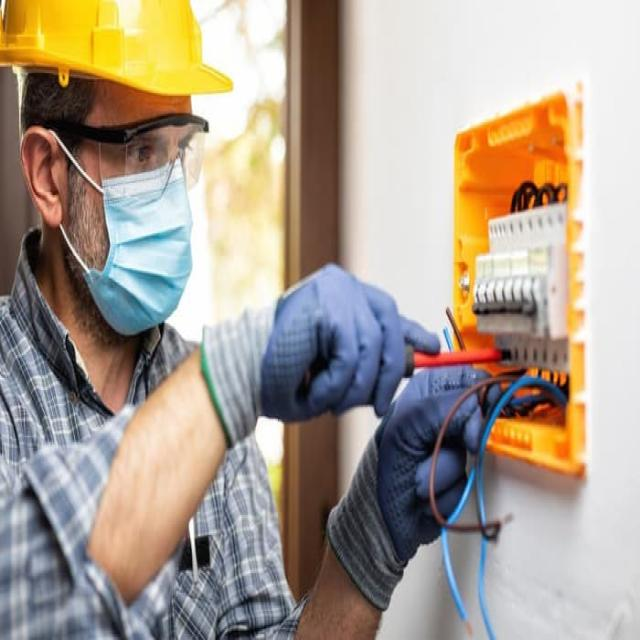gloves: (326, 364, 525, 610), (201, 260, 440, 447)
